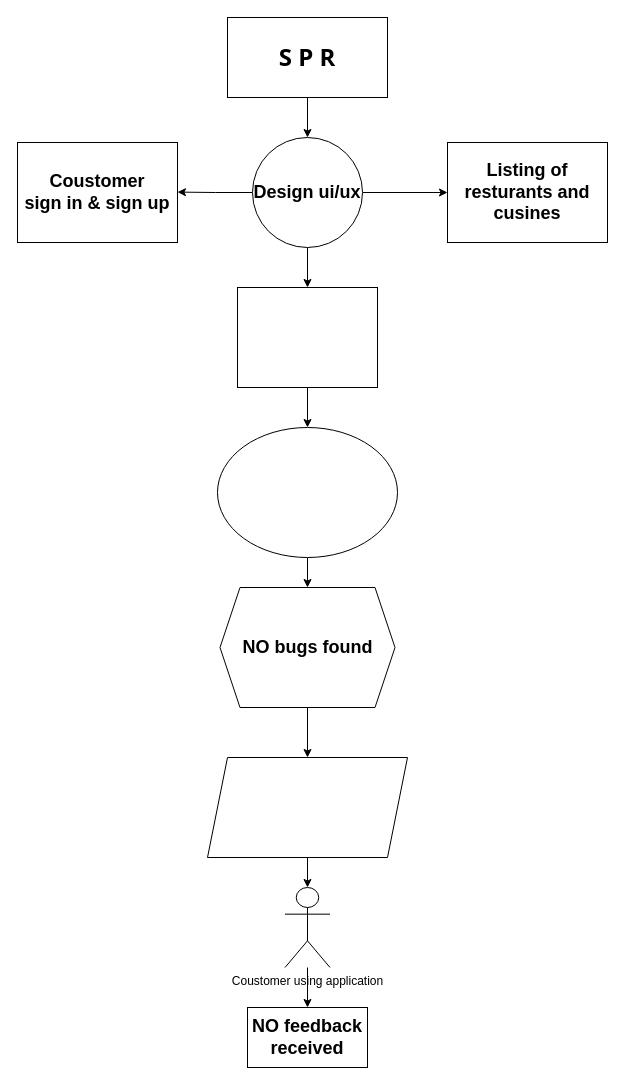
This 625x1091 diagram has some shape labels left out. Here are the shapes that lost their labels. From the top down, the centre of each, then its label:
pixel 307 337: Check out page and RTX
pixel 307 492: Compiling into APX
pixel 307 807: Writing permissions for deployment
